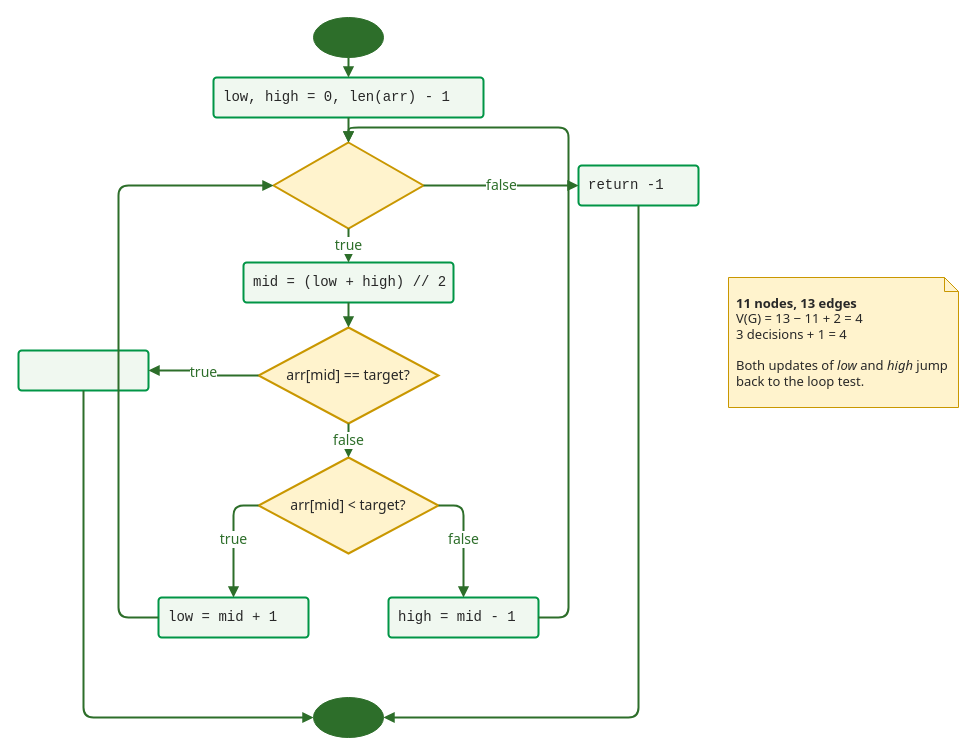
Image size: 976x755. Some labels were removed from this diagram. Here are the shapes that lost their labels. From the top down, the centre of each, then its label:
At (348,37): "Start".
At (348,185): "low <= high?".
At (83,370): "return mid".
At (348,717): "End".
